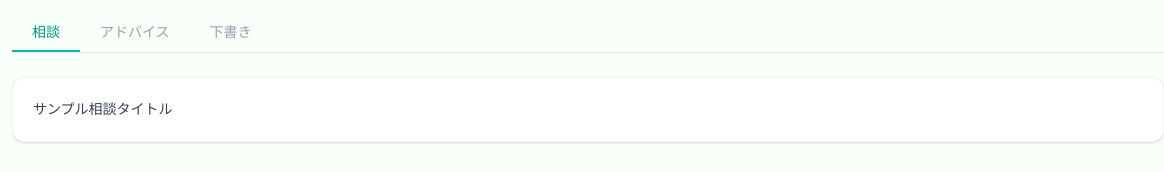
Test: UserContentTabs アドバイスタブ › アドバイス取得失敗時はエラー表示になり、空状態とは区別される
Click the button "アドバイス": (135, 32) [80,12,190,52]
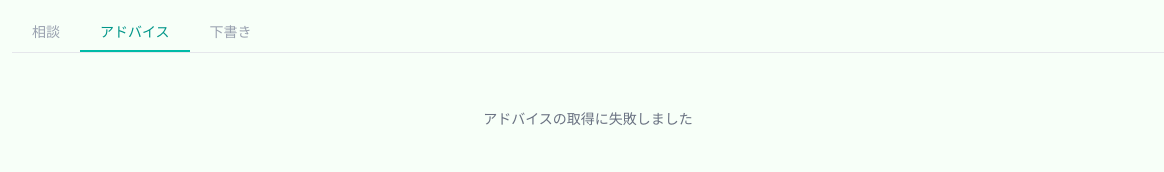
Check: the message reads "アドバイスの取得に失敗しました", box [483,109,693,128]
